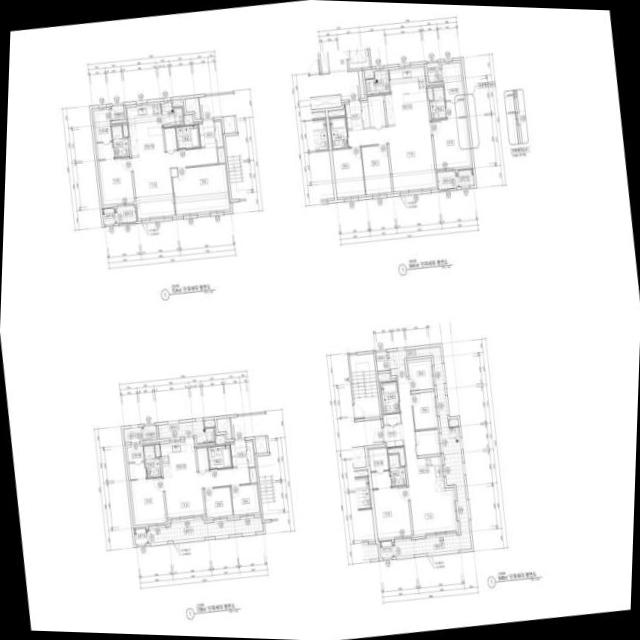background: (0, 0, 640, 640)
space_balconi: (388, 346, 471, 556), (146, 517, 263, 543), (158, 420, 215, 443), (366, 70, 390, 95), (161, 102, 183, 126), (437, 170, 458, 189), (114, 205, 136, 223), (123, 427, 142, 442)
space_bedroom: (172, 164, 229, 214), (431, 117, 471, 169), (372, 486, 411, 538), (130, 477, 166, 525), (98, 157, 134, 205), (332, 147, 365, 197), (361, 144, 392, 194), (411, 391, 437, 430), (231, 484, 259, 515), (204, 486, 232, 517), (408, 360, 433, 390)
space_dressroom: (442, 62, 466, 118), (93, 109, 114, 159), (368, 448, 390, 488), (127, 443, 145, 479)
space_front: (198, 119, 223, 148), (345, 100, 363, 129), (230, 440, 248, 468), (382, 424, 403, 447)
space_kitchen: (384, 66, 429, 125), (126, 104, 165, 156), (160, 438, 196, 476), (417, 456, 443, 493)
space_living_room: (397, 378, 456, 534), (347, 120, 436, 191), (132, 147, 218, 218), (163, 467, 250, 517)
space_other: (415, 429, 439, 455), (367, 95, 385, 127), (216, 417, 232, 439), (184, 97, 200, 119), (426, 62, 442, 82), (388, 447, 405, 465), (196, 447, 209, 470), (164, 127, 177, 150), (375, 351, 388, 371), (361, 101, 370, 128), (223, 115, 235, 133), (143, 425, 157, 440), (110, 105, 124, 120), (255, 436, 267, 453), (246, 441, 254, 466), (383, 413, 401, 424), (358, 70, 364, 98), (328, 110, 345, 117), (217, 147, 224, 163), (249, 468, 256, 483), (183, 115, 193, 124), (204, 419, 215, 427), (378, 372, 390, 379), (449, 418, 459, 426), (154, 444, 160, 457), (427, 87, 433, 100), (122, 124, 128, 137), (215, 436, 224, 444), (365, 71, 374, 78), (172, 101, 182, 107)
space_outdoor_room: (458, 169, 474, 187), (379, 541, 393, 558), (134, 528, 147, 544), (102, 208, 115, 224)
space_staircase: (349, 353, 380, 419)
space_toilet: (380, 381, 399, 413), (329, 117, 348, 148), (388, 454, 406, 486), (143, 445, 161, 477), (111, 125, 129, 157), (176, 124, 199, 149), (429, 86, 446, 119), (208, 445, 231, 469)
